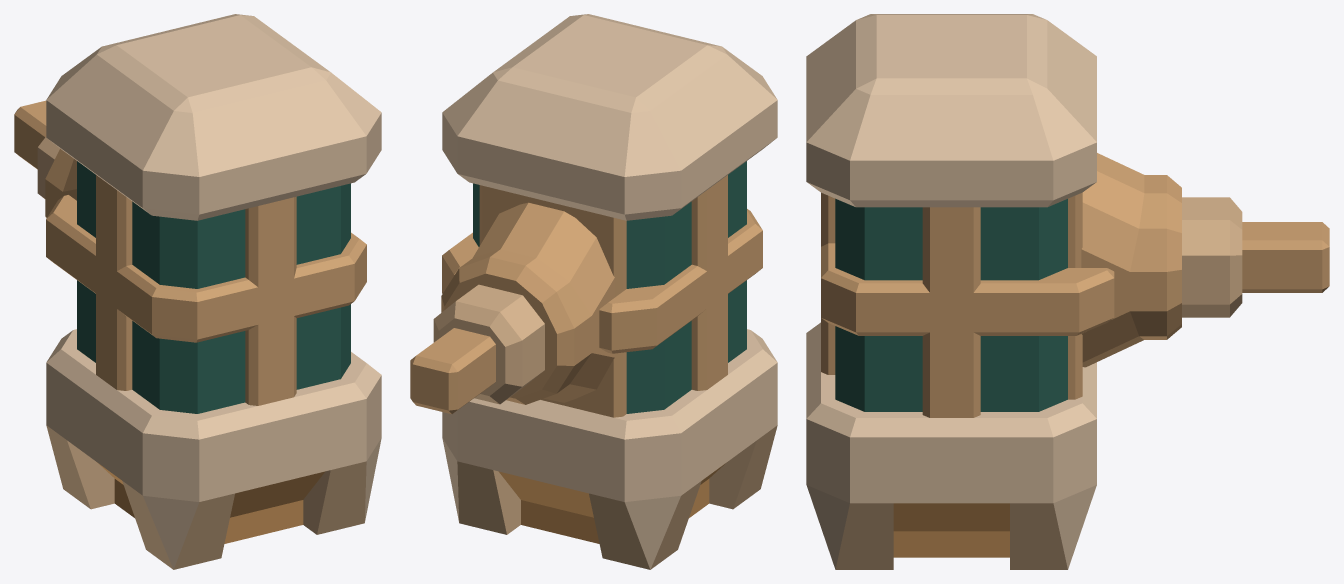
File: Puzzle_Sliding_Key.fbx
The picture shows the model from 3 angles, left to right: view 1: azimuth 30°, elevation 25°; view 2: azimuth 150°, elevation 25°; view 3: azimuth 270°, elevation 25°; orthographic projection. The views are drawn at different scales.
Visible parts, largest first — view 1: Sandstone_Trim.Sandstone_Trim.Sandstone_Trim.Sandstone_Trim., Sandstone_5.Sandstone_5.Sandstone_5.Sandstone_5.Sandstone_5., object1, Sandstone_4.Sandstone_4.Sandstone_4.Sandstone_4.Sandstone_4., Sandstone_6.Sandstone_6.Sandstone_6.Sandstone_6.Sandstone_6.; view 2: Sandstone_Trim.Sandstone_Trim.Sandstone_Trim.Sandstone_Trim., Sandstone_5.Sandstone_5.Sandstone_5.Sandstone_5.Sandstone_5., Sandstone_4.Sandstone_4.Sandstone_4.Sandstone_4.Sandstone_4., object1, Sandstone_6.Sandstone_6.Sandstone_6.Sandstone_6.Sandstone_6.; view 3: Sandstone_Trim.Sandstone_Trim.Sandstone_Trim.Sandstone_Trim., Sandstone_5.Sandstone_5.Sandstone_5.Sandstone_5.Sandstone_5., object1, Sandstone_4.Sandstone_4.Sandstone_4.Sandstone_4.Sandstone_4., Sandstone_6.Sandstone_6.Sandstone_6.Sandstone_6.Sandstone_6..
Part boxes in pixels (box(x1,y1,x2,y2)): Sandstone_Trim.Sandstone_Trim.Sandstone_Trim.Sandstone_Trim.: box(46, 14, 381, 569); Sandstone_5.Sandstone_5.Sandstone_5.Sandstone_5.Sandstone_5.: box(14, 100, 366, 405); object1: box(77, 161, 350, 413); Sandstone_4.Sandstone_4.Sandstone_4.Sandstone_4.Sandstone_4.: box(37, 136, 366, 569); Sandstone_6.Sandstone_6.Sandstone_6.Sandstone_6.Sandstone_6.: box(97, 462, 325, 543); Sandstone_Trim.Sandstone_Trim.Sandstone_Trim.Sandstone_Trim.: box(442, 14, 777, 569); Sandstone_5.Sandstone_5.Sandstone_5.Sandstone_5.Sandstone_5.: box(410, 175, 762, 417); Sandstone_4.Sandstone_4.Sandstone_4.Sandstone_4.Sandstone_4.: box(433, 284, 777, 569); object1: box(473, 161, 746, 413); Sandstone_6.Sandstone_6.Sandstone_6.Sandstone_6.Sandstone_6.: box(498, 462, 726, 543); Sandstone_Trim.Sandstone_Trim.Sandstone_Trim.Sandstone_Trim.: box(806, 14, 1096, 569); Sandstone_5.Sandstone_5.Sandstone_5.Sandstone_5.Sandstone_5.: box(821, 153, 1329, 417); object1: box(835, 198, 1067, 411); Sandstone_4.Sandstone_4.Sandstone_4.Sandstone_4.Sandstone_4.: box(835, 197, 1242, 569); Sandstone_6.Sandstone_6.Sandstone_6.Sandstone_6.Sandstone_6.: box(893, 503, 1009, 557).
Size of the model in its own units: 0.5 by 0.9 by 0.9.
